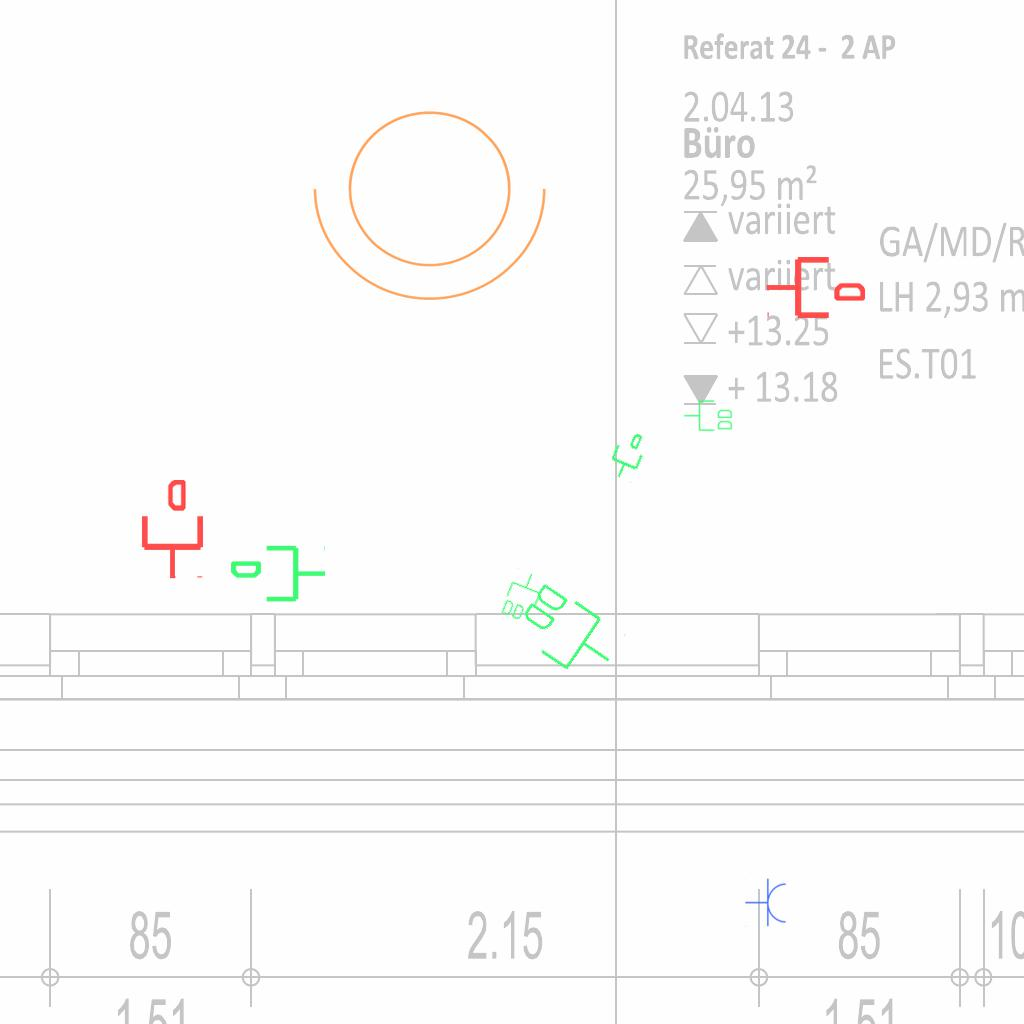Datenanschluss_einfach: (138, 480, 207, 580), (228, 541, 328, 610), (765, 253, 865, 322), (601, 425, 653, 485)
Datenanschluss_zweifach: (506, 575, 631, 690), (497, 565, 548, 627), (683, 399, 734, 433)
Scheinwerfer_fuer_Alarmbeleuchtung: (304, 86, 568, 311)
Schukosteckdose_einfach: (745, 878, 788, 928)
